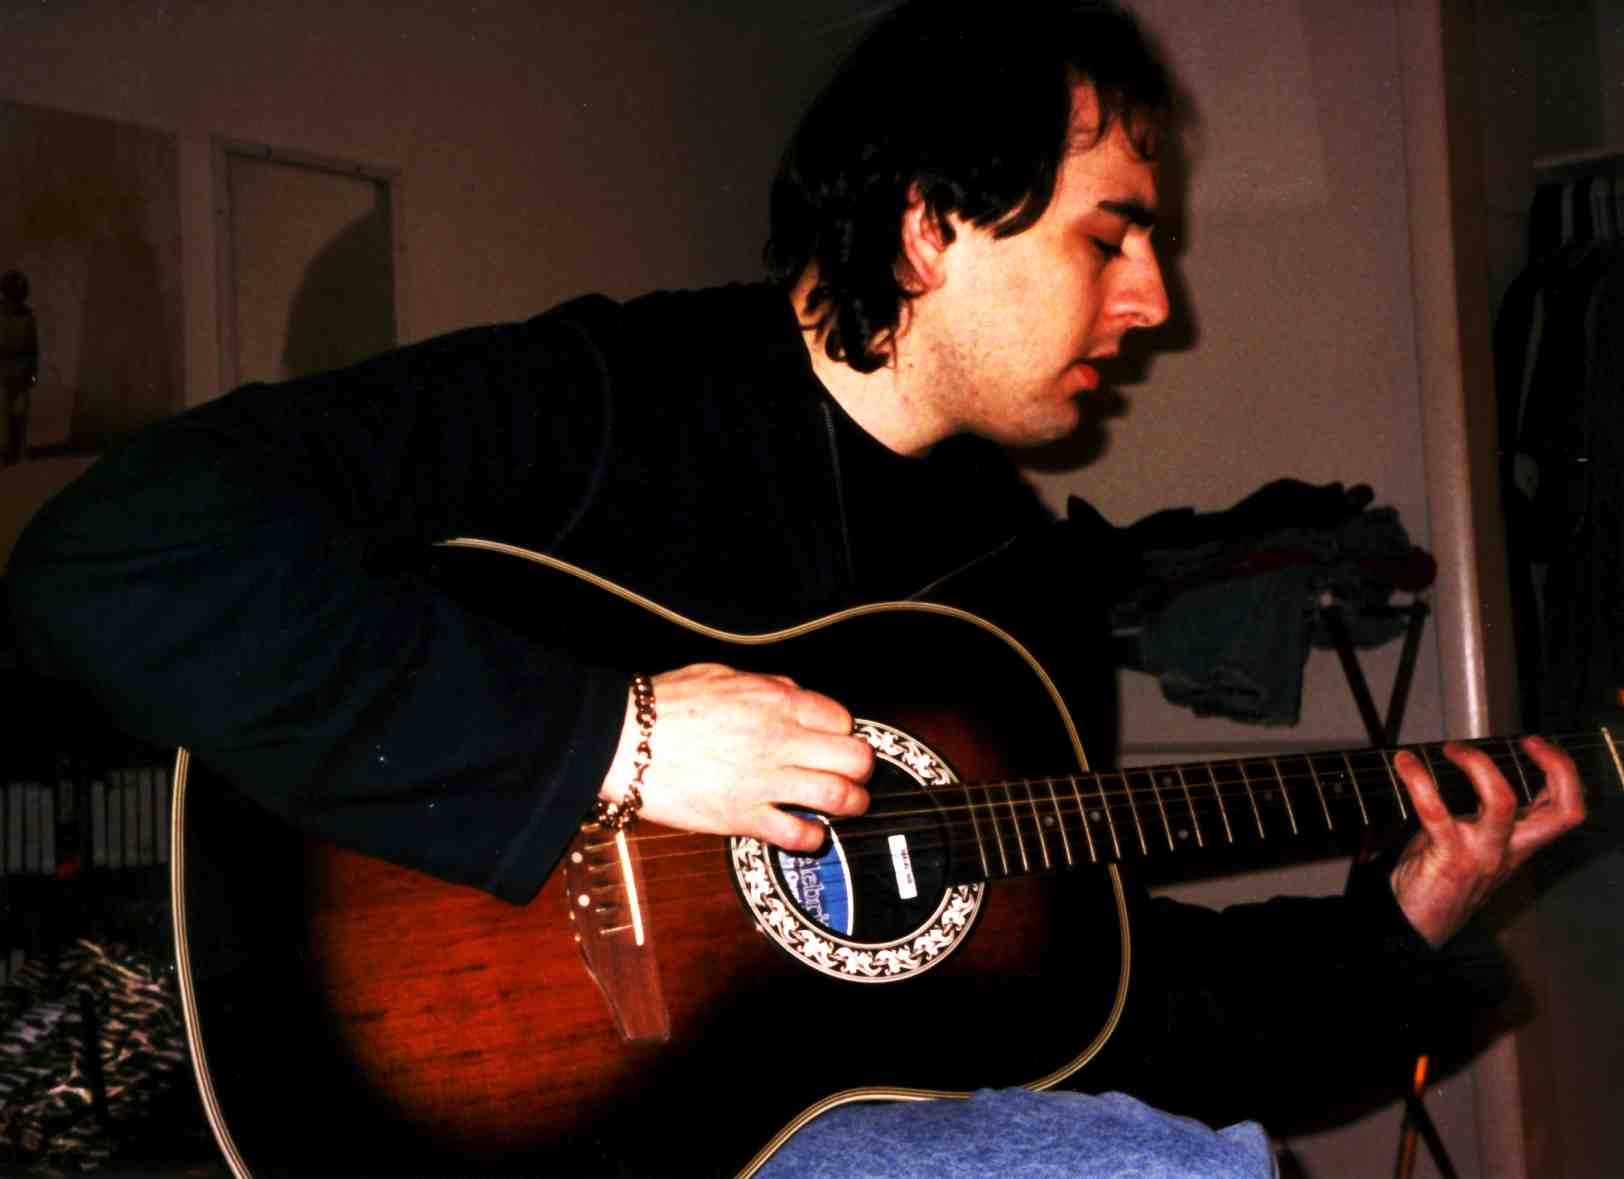guitar: (158, 526, 1624, 1179)
